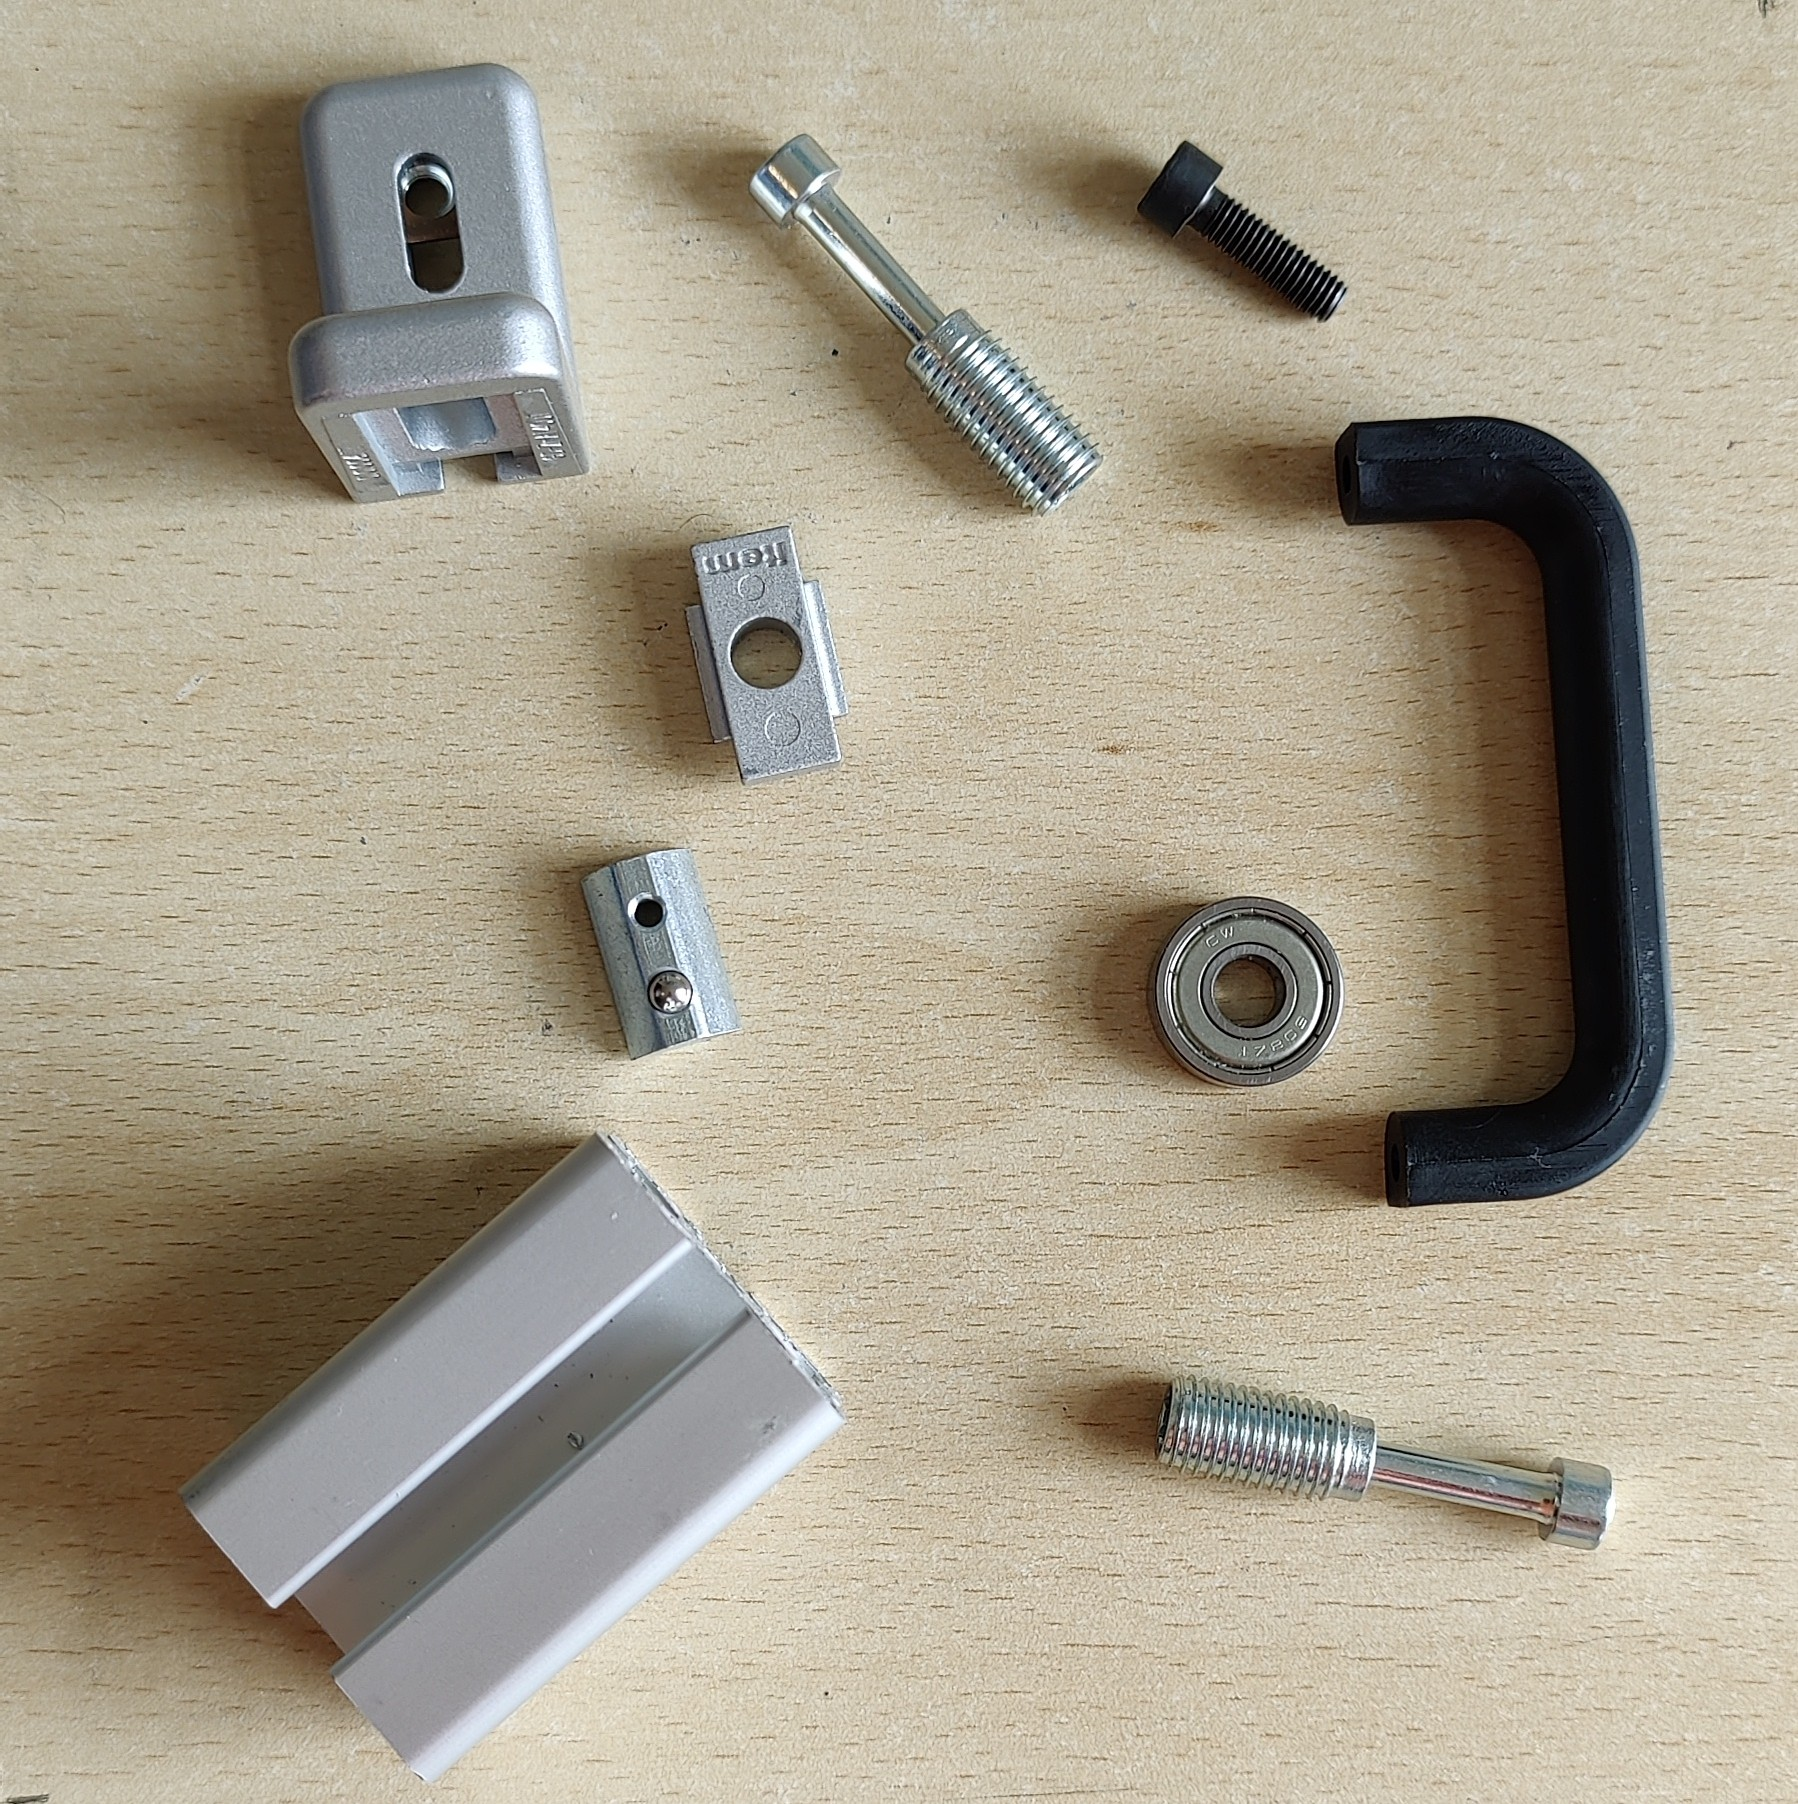Aluminium Extension: (175, 1126, 850, 1788)
Ball Bearing: (1144, 895, 1344, 1086)
Multiwinkel: (282, 59, 593, 507)
Pull Handle: (1332, 411, 1678, 1211)
Shoulder Socket Head Cap Screw: (748, 132, 1106, 522), (1151, 1374, 1615, 1554)
Socket Head Cap Screw: (1134, 137, 1350, 324)
T Nut Square: (680, 523, 848, 788)
T Spring Nut: (580, 844, 744, 1060)
